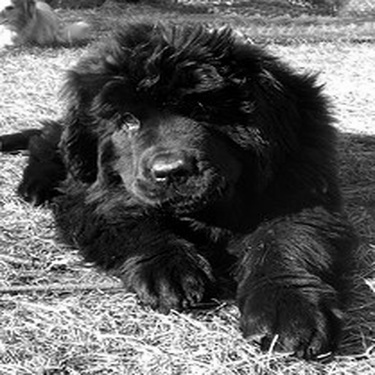dog: (1, 12, 354, 365), (2, 2, 101, 61)
